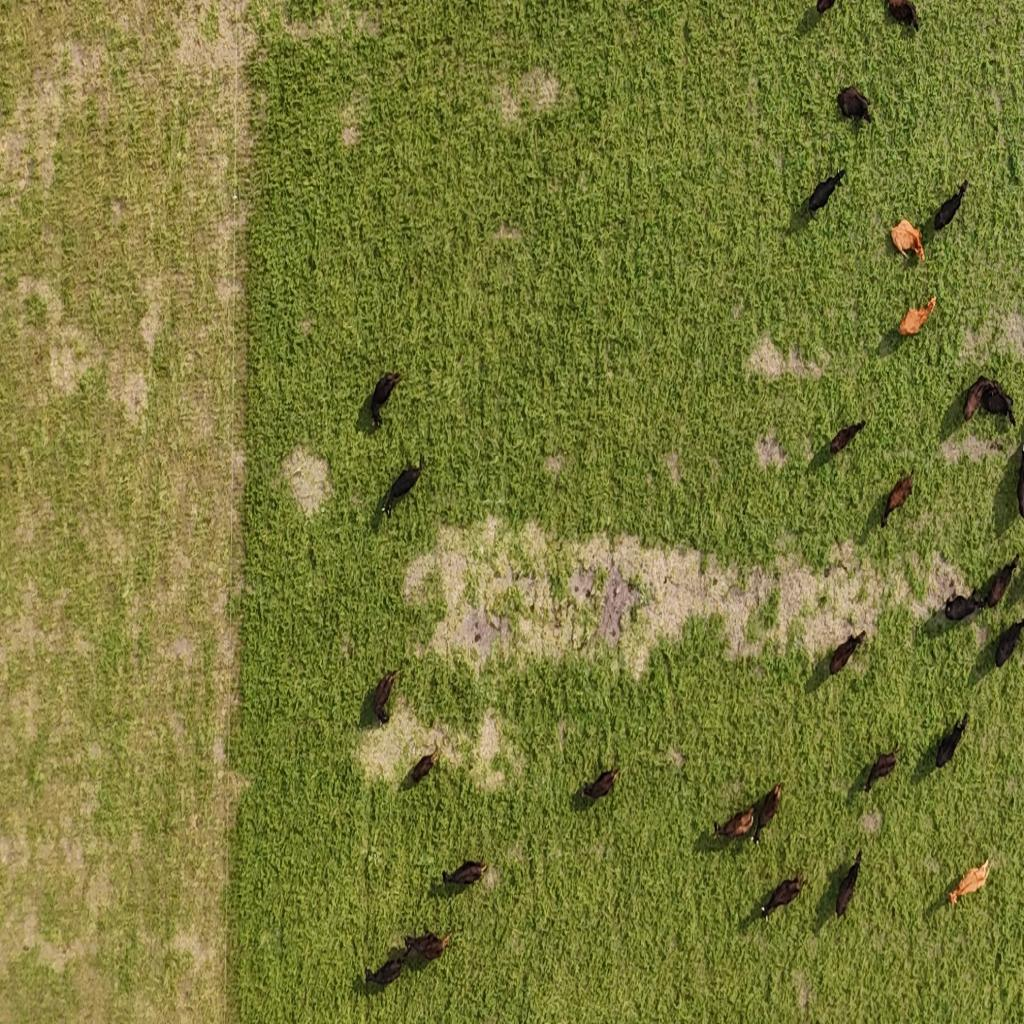cow: (877, 465, 919, 537), (801, 162, 846, 222), (382, 457, 423, 519), (946, 856, 992, 909), (759, 870, 806, 920), (748, 782, 782, 847), (860, 743, 900, 796), (368, 370, 402, 431), (395, 928, 454, 962), (368, 668, 400, 730), (933, 181, 969, 234), (934, 714, 968, 770), (578, 761, 621, 805), (835, 850, 862, 920), (828, 629, 866, 678), (986, 556, 1020, 610), (824, 420, 866, 462), (834, 83, 874, 126), (712, 804, 756, 843), (890, 218, 926, 265), (365, 948, 407, 988), (898, 295, 936, 338), (439, 857, 486, 891), (994, 618, 1024, 670), (406, 744, 440, 788), (962, 374, 993, 420), (987, 384, 1015, 430), (944, 591, 983, 623), (884, 0, 919, 32), (1017, 422, 1024, 524), (810, 0, 837, 24)
